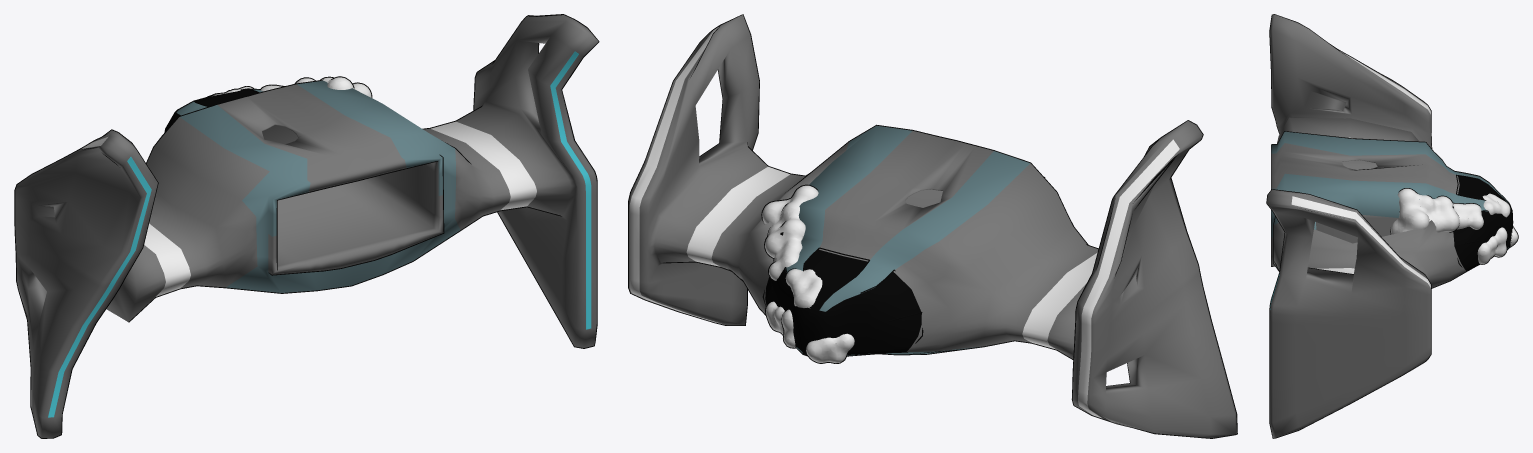
File: Dead MidShip(2).fbx
The picture shows the model from 3 angles, left to right: view 1: azimuth 30°, elevation 25°; view 2: azimuth 150°, elevation 25°; view 3: azimuth 270°, elevation 25°; orthographic projection. The views are drawn at different scales.
Parts seen in each view (by area): view 1: Dead MidShip (2); view 2: Dead MidShip (2); view 3: Dead MidShip (2).
Boxes of the visible parts, <box> form: Dead MidShip (2): <box>14,14,599,438</box>; Dead MidShip (2): <box>628,14,1237,438</box>; Dead MidShip (2): <box>1266,14,1518,438</box>.
Size of the model in its own units: 14.03 by 7.32 by 7.94.
